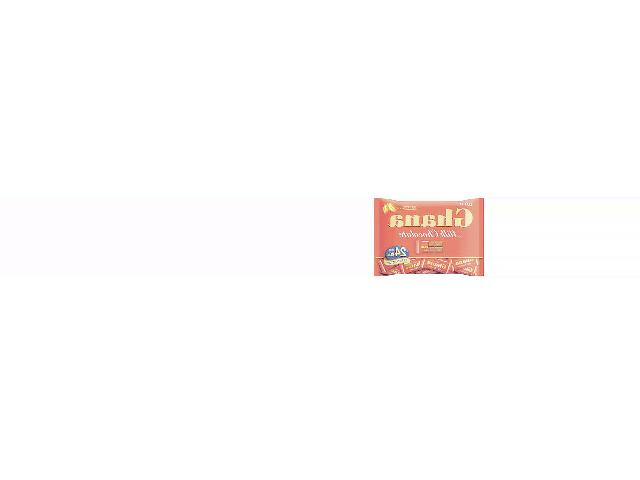chocolate: (372, 199, 482, 278)
